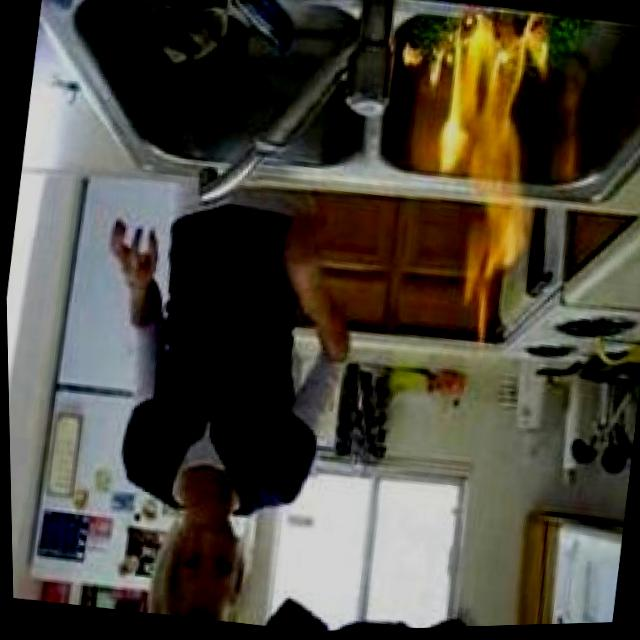helmet: (388, 7, 565, 337)
